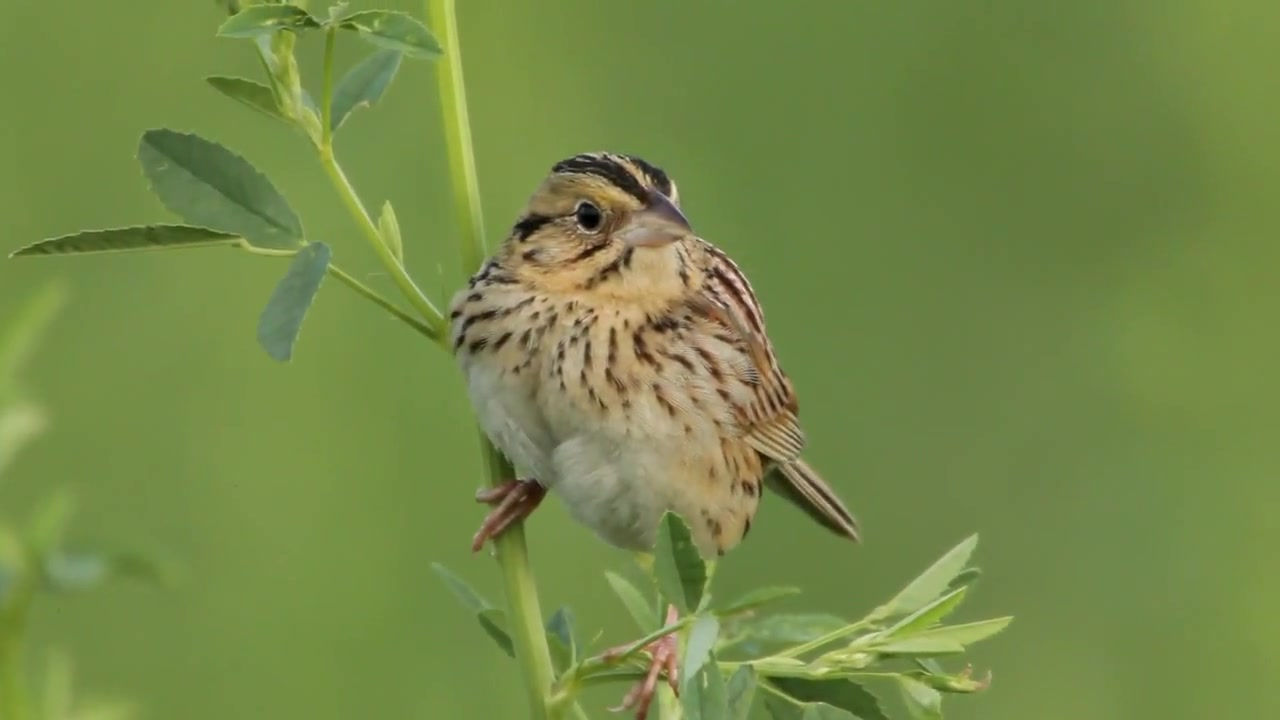bird: (447, 154, 863, 720)
